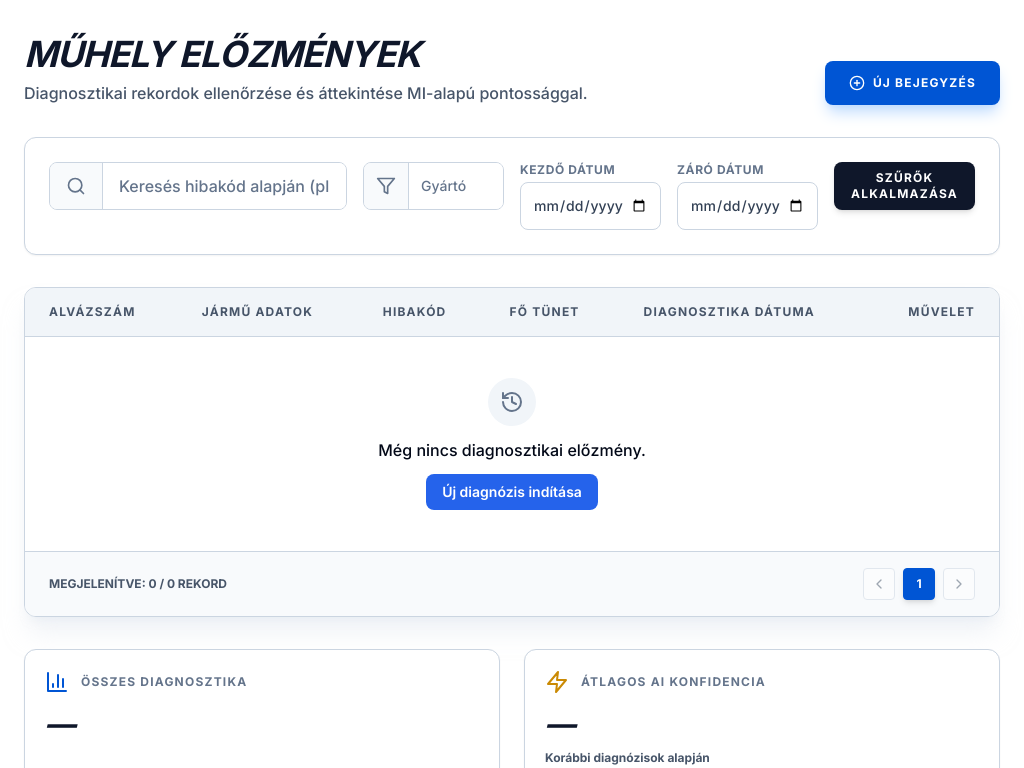
it: HistoryPage › shows the filtered-empty message when active filters match nothing
Type "NincsIlyen" into the field named "Gyártó szűrő" at [456, 186], box top-left (409, 163), bottom-right (503, 209)
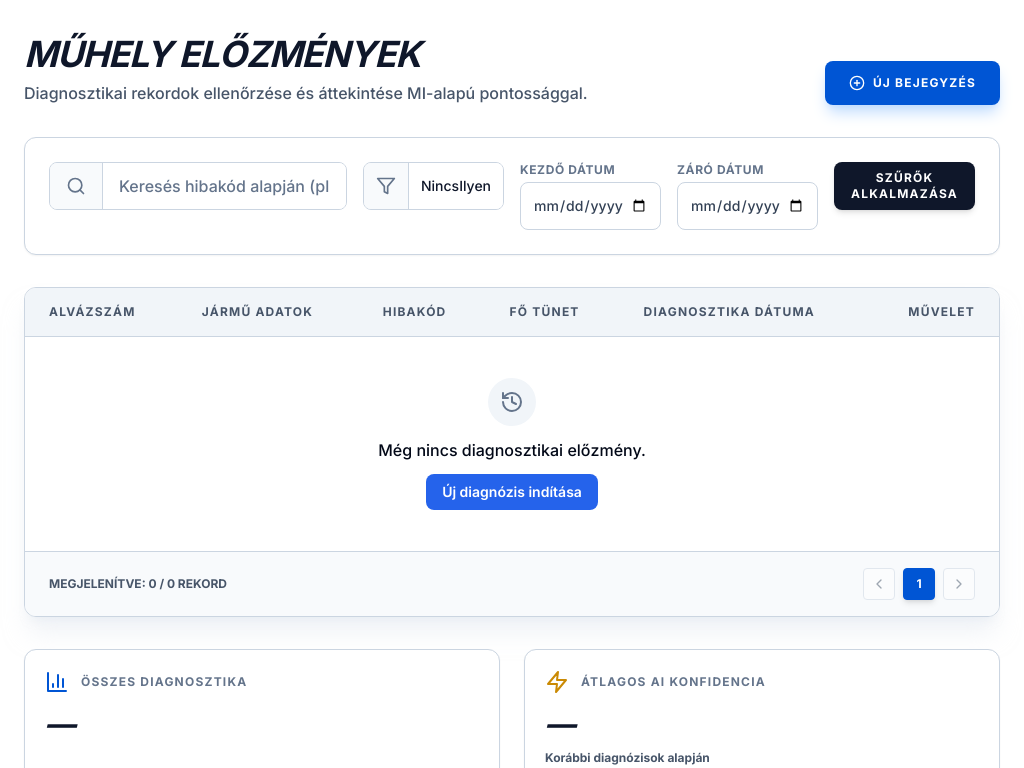
Click the button "Szűrők alkalmazása" at [904, 186], box top-left (834, 162), bottom-right (975, 210)
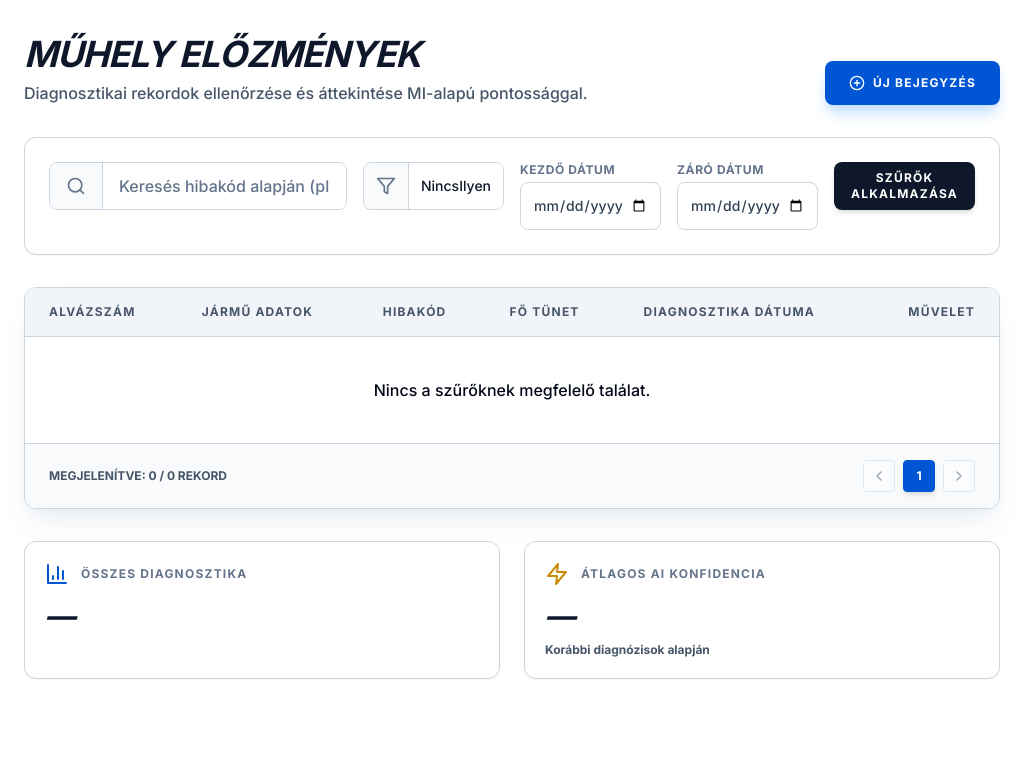
expect the text "Nincs a szűrőknek megfelelő találat." is shown: met, box top-left (374, 378), bottom-right (650, 402)
